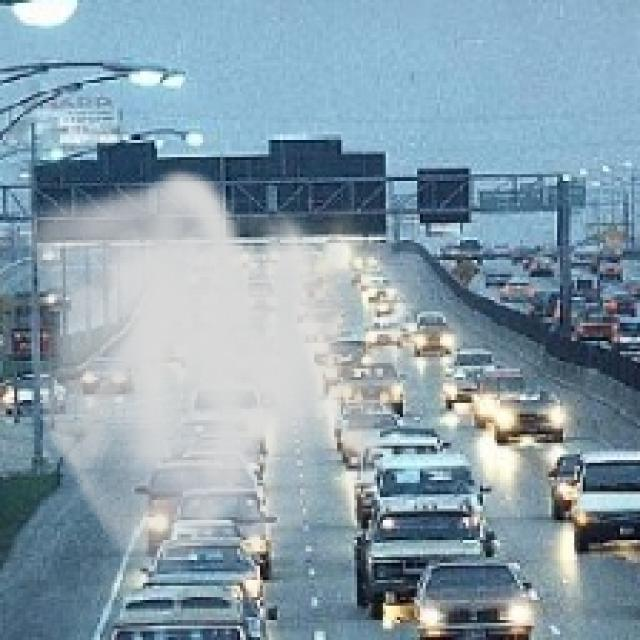smoke: (14, 165, 429, 586)
